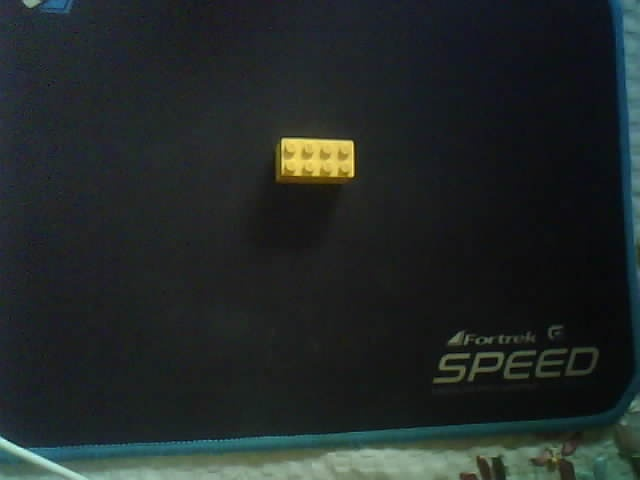lego: (274, 137, 356, 185)
